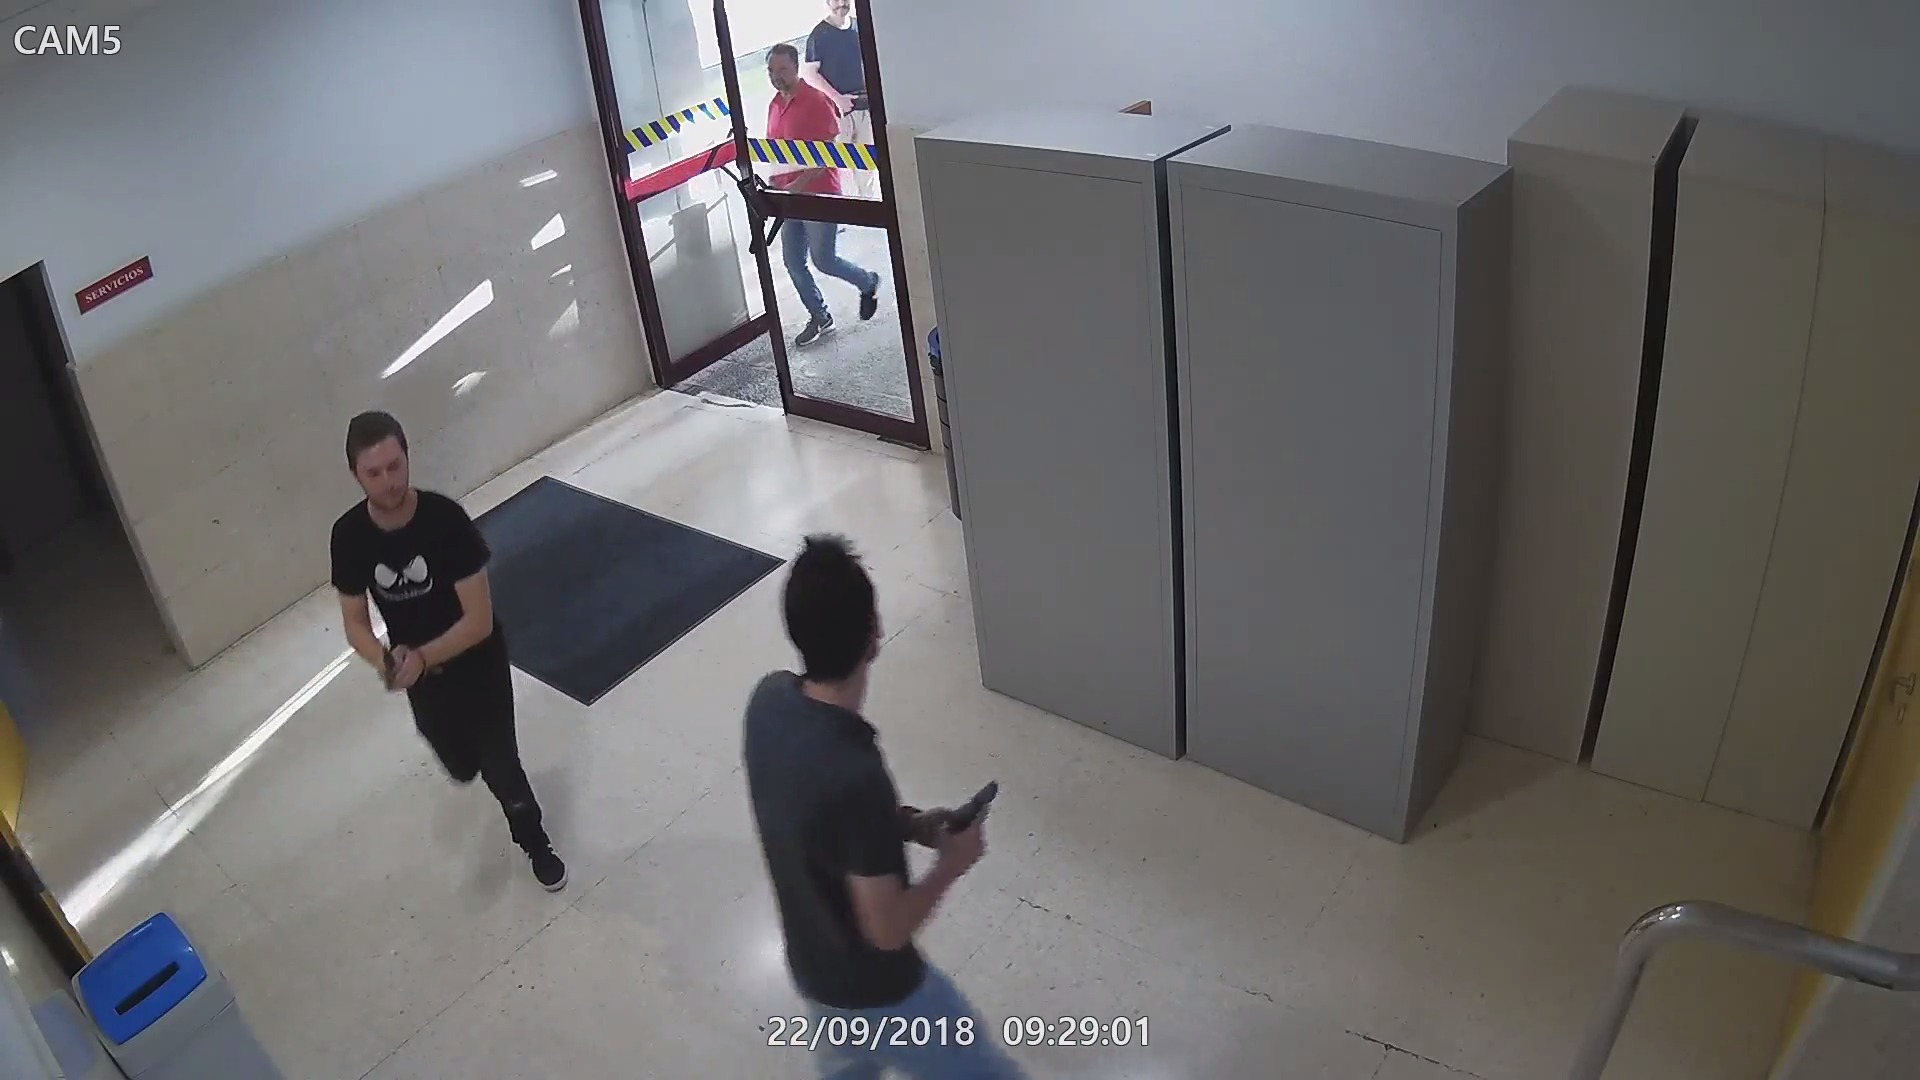Handgun: (942, 778, 1007, 877), (371, 641, 423, 698)
